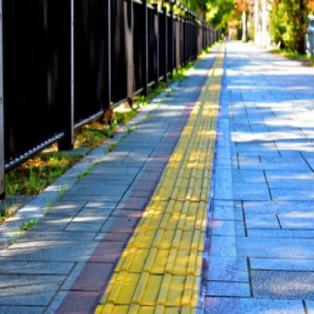Podoctatil: (91, 18, 257, 313)
